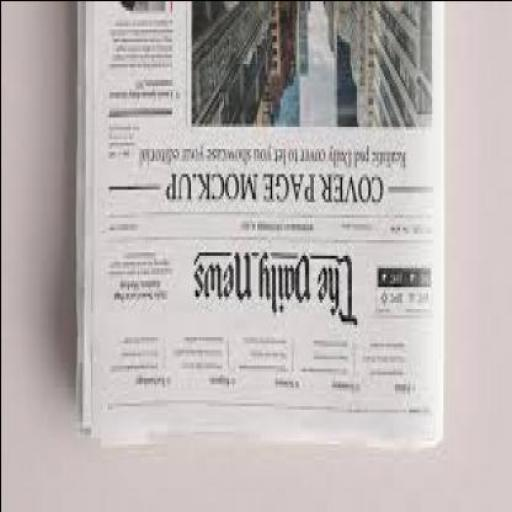paper: (74, 4, 444, 449)
